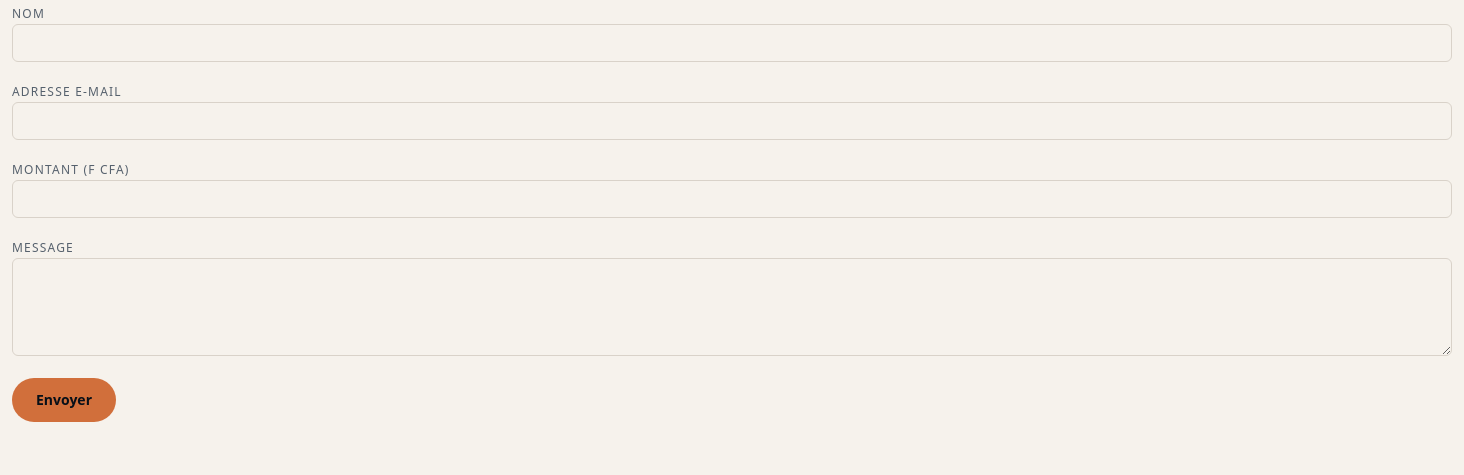
Scenario: FormulaireSoutien › affiche le message d’erreur renvoyé par l’action
This screenshot has width=1464, height=475.
Type "Test" into the field labelled "Nom". click: (732,43)
box: [12,24,1452,62]
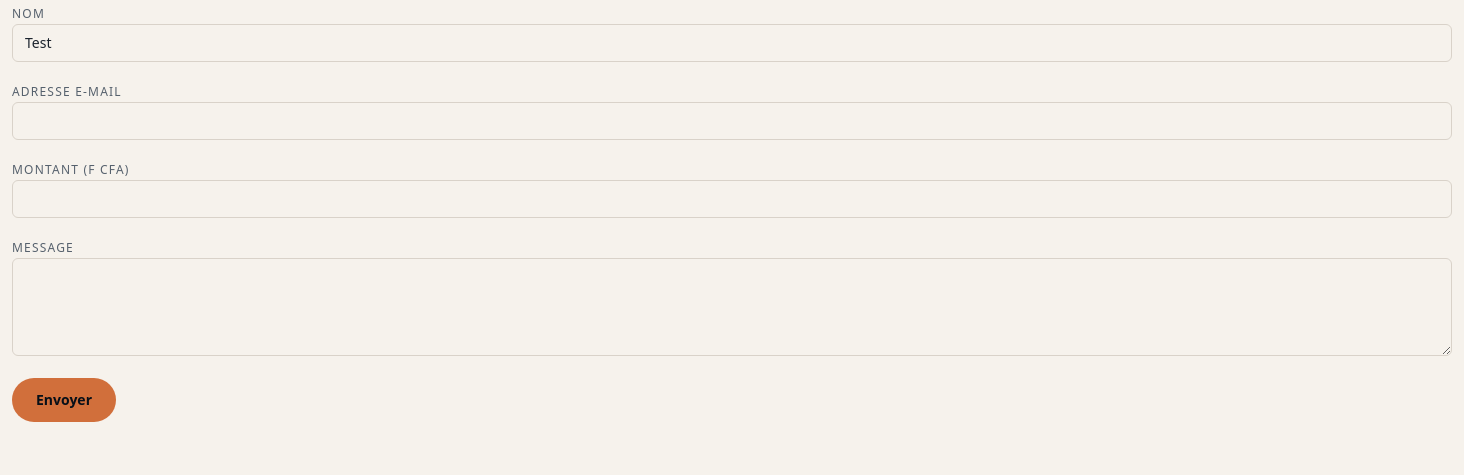
Type "a@b" into the field labelled "Adresse e-mail". click: (732,121)
box: [12,102,1452,140]
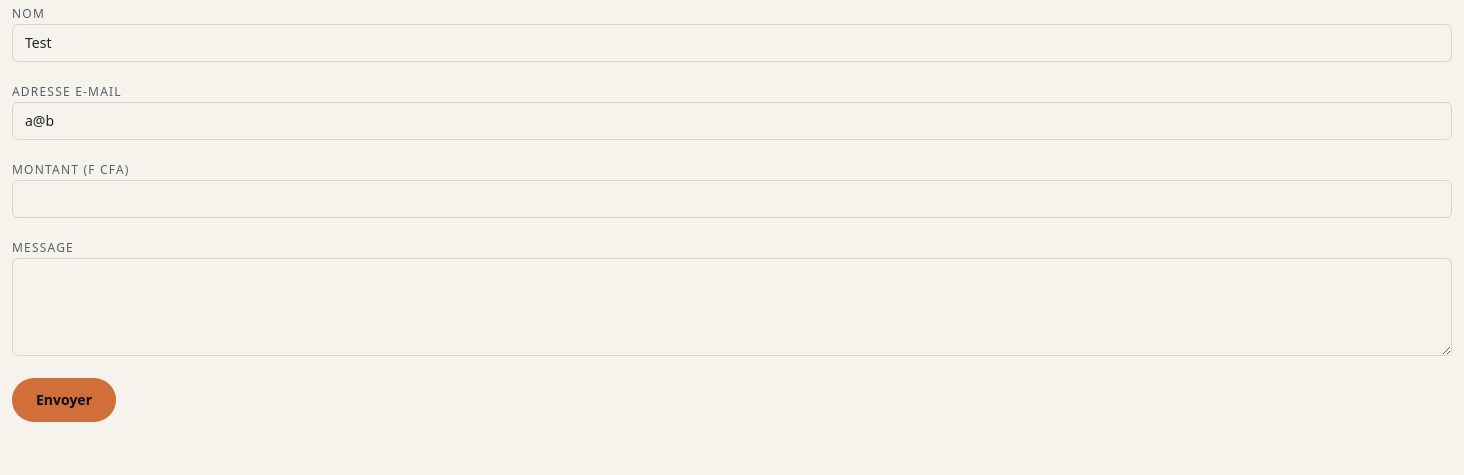
Click the button "Envoyer". click: (64,400)
box: [12,378,116,422]
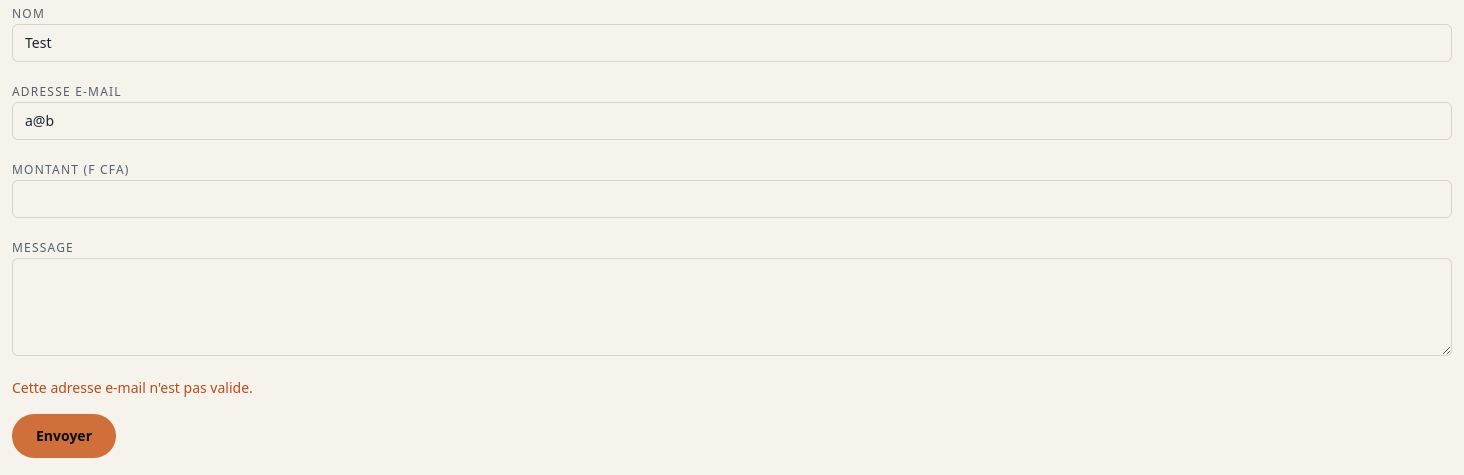
Expected: the message shows "adresse", [12,378,253,397]
